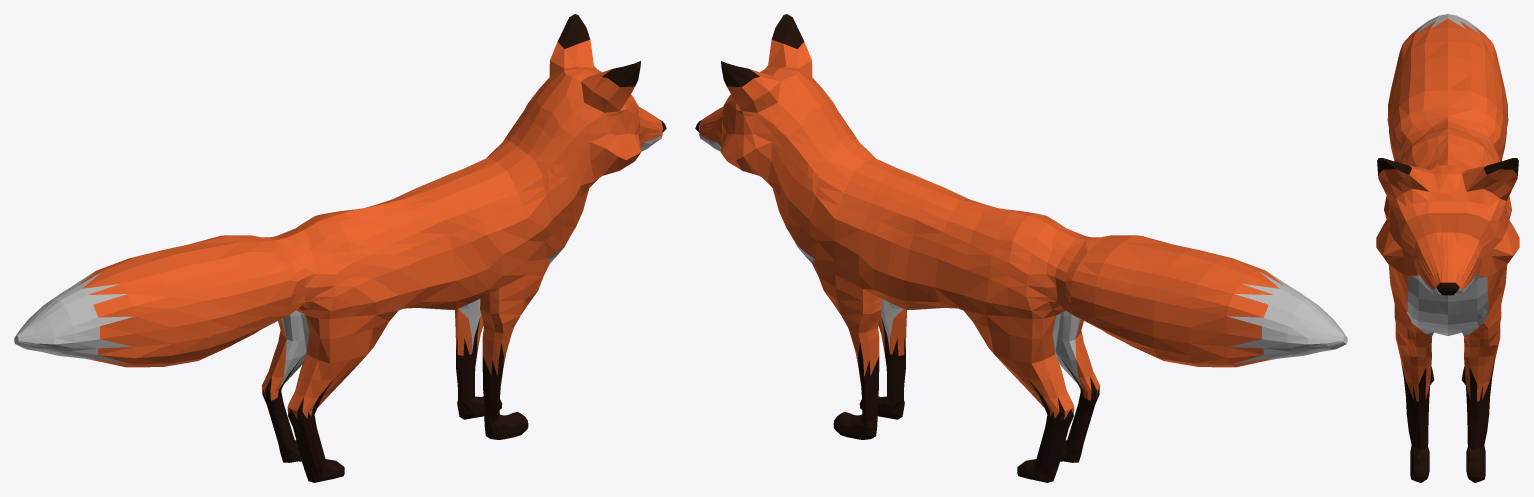
File: Low Poly Fuchs.glb
3 views of the same model, side by side, from view 1: azimuth 30°, elevation 25°; view 2: azimuth 150°, elevation 25°; view 3: azimuth 270°, elevation 25° (orthographic). The views are drawn at different scales.
Visible parts, largest first — view 1: 3ECKIG; view 2: 3ECKIG; view 3: 3ECKIG.
Boxes of the visible parts, <box> form: 3ECKIG: <box>14,14,666,482</box>; 3ECKIG: <box>695,14,1347,482</box>; 3ECKIG: <box>1376,14,1519,482</box>.
Size of the model in its own units: 5.02 by 2.67 by 0.9229.
